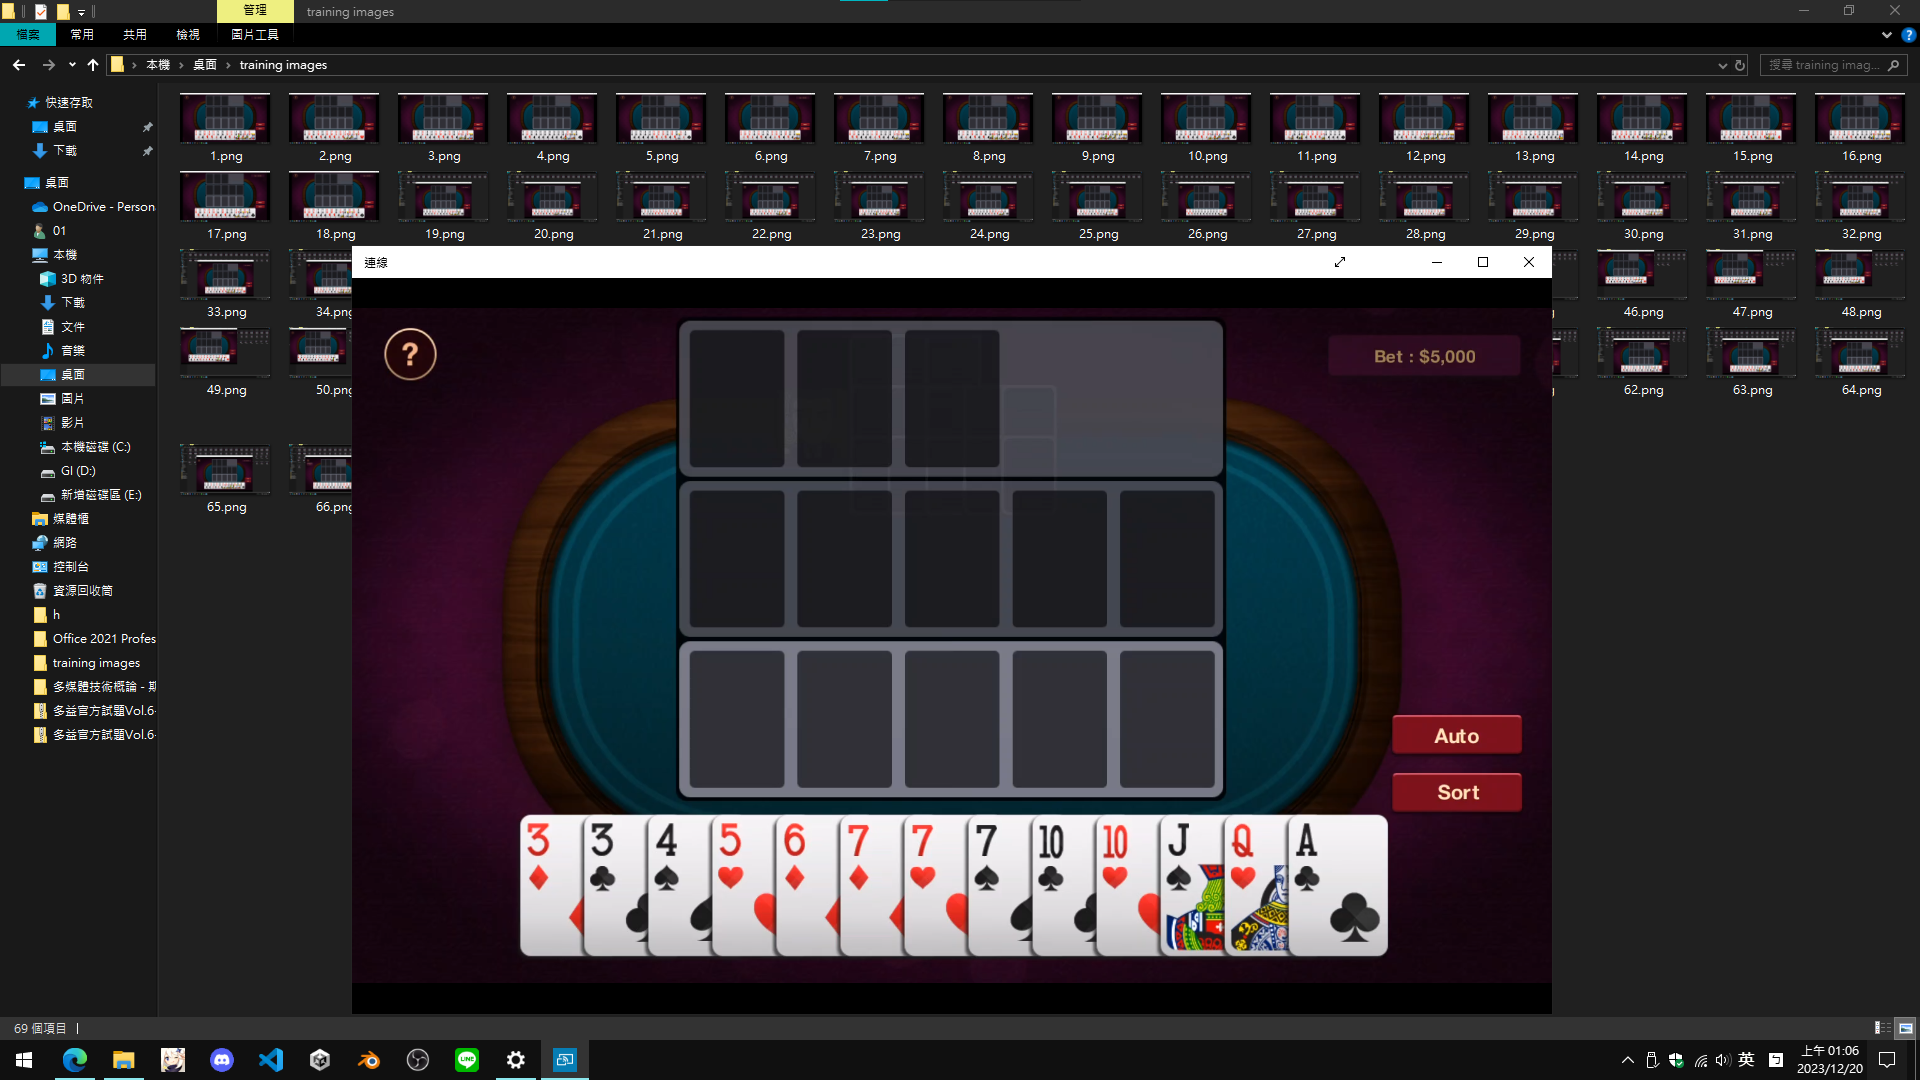10C: (1036, 820, 1069, 897)
10H: (1100, 823, 1131, 891)
3C: (587, 820, 618, 895)
3D: (524, 819, 554, 895)
4S: (651, 822, 683, 894)
5H: (716, 820, 746, 891)
6D: (781, 819, 808, 894)
7D: (844, 822, 873, 893)
7H: (907, 822, 940, 893)
7S: (972, 820, 1002, 893)
AC: (1292, 820, 1321, 895)
JS: (1164, 820, 1196, 895)
QH: (1226, 819, 1259, 894)
